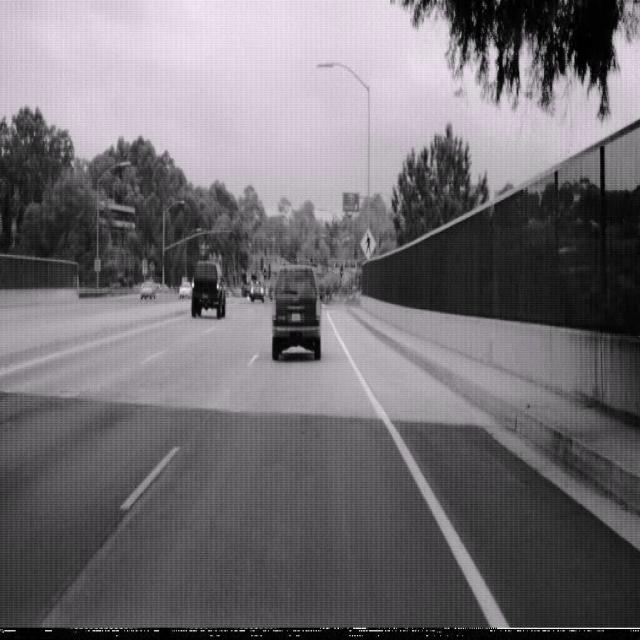pedestrianCrossing: (359, 225, 377, 262)
